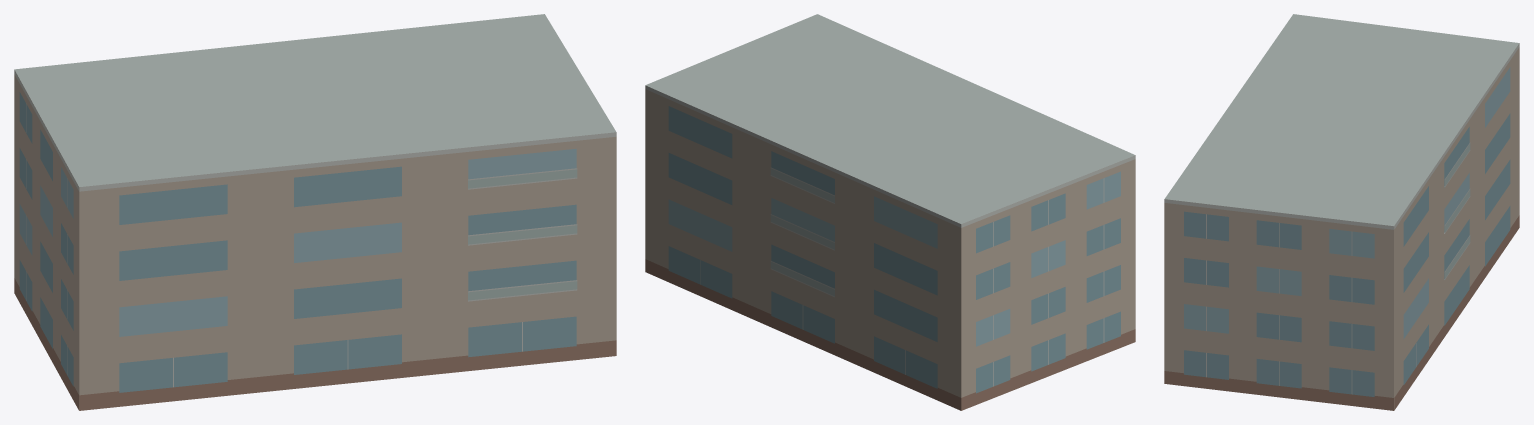
The model's file is survey-upis-32855700.glb.
3 renders of one model, left to right at view 1: azimuth 30°, elevation 25°; view 2: azimuth 150°, elevation 25°; view 3: azimuth 270°, elevation 25°, orthographic. The views are drawn at different scales.
Parts seen in each view (by area): view 1: survey-upis-32855700.tmp; view 2: survey-upis-32855700.tmp; view 3: survey-upis-32855700.tmp.
Boxes of the visible parts, x1,y1,x2,y2 form: survey-upis-32855700.tmp: (14, 14, 616, 410); survey-upis-32855700.tmp: (645, 14, 1135, 410); survey-upis-32855700.tmp: (1164, 14, 1519, 410).
Bounding box in the file's own units: 30.07 × 12.2 × 21.27.
